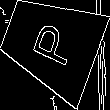P_W: (24, 18, 78, 70)
